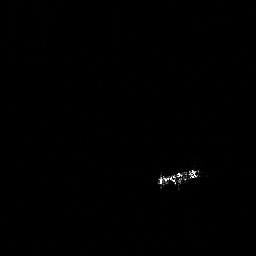ship: (154, 165, 202, 187)
